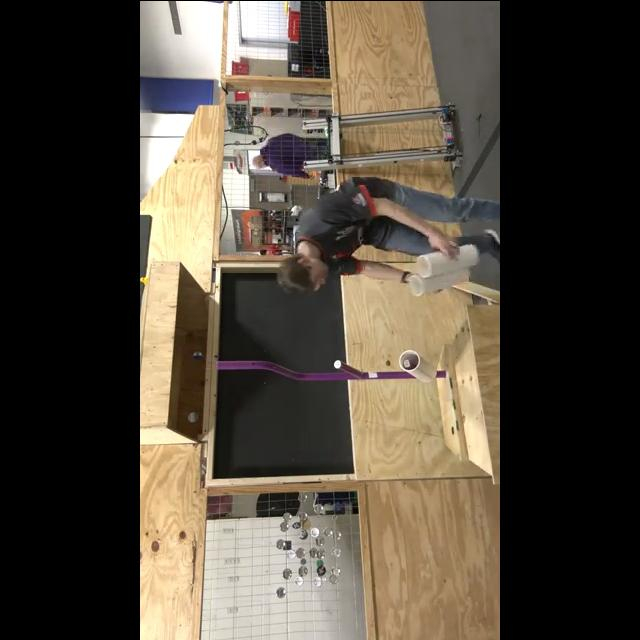CORAL: (418, 243, 478, 277), (409, 269, 469, 295), (398, 348, 438, 380)
